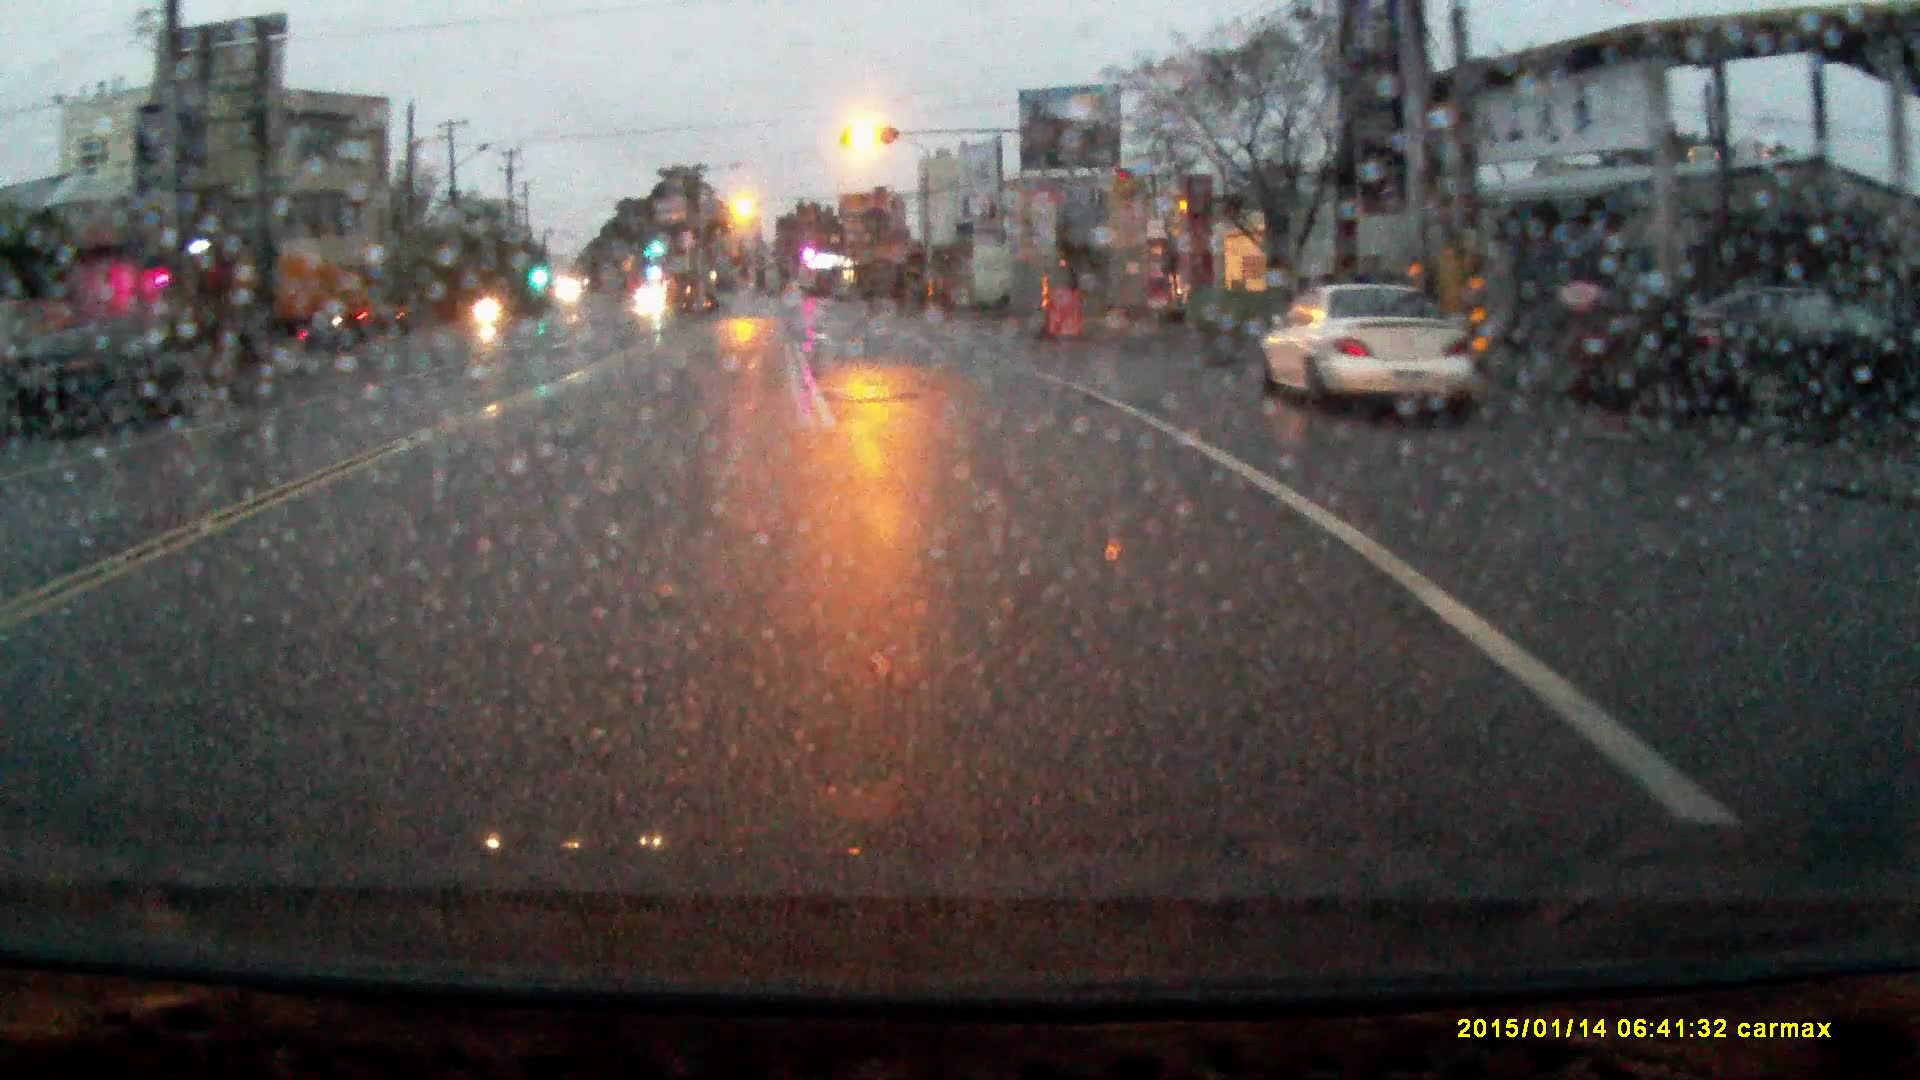rider: (470, 280, 503, 332)
vehicle: (1255, 290, 1482, 422), (208, 238, 407, 343), (31, 325, 207, 435), (635, 289, 667, 317)
